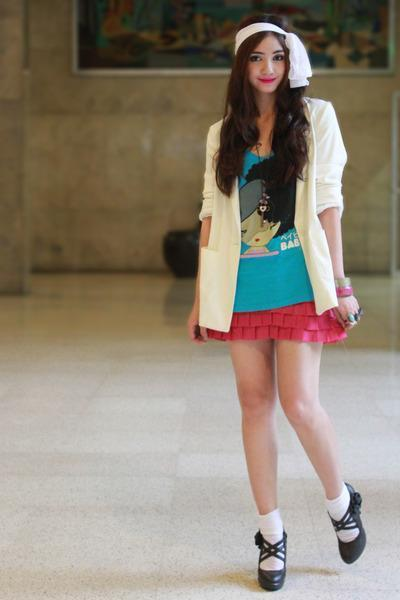hat: (235, 23, 312, 86)
jacket: (198, 99, 346, 331)
shirt: (233, 156, 313, 311)
shoe: (255, 492, 365, 591)
skirt: (228, 300, 352, 344)
